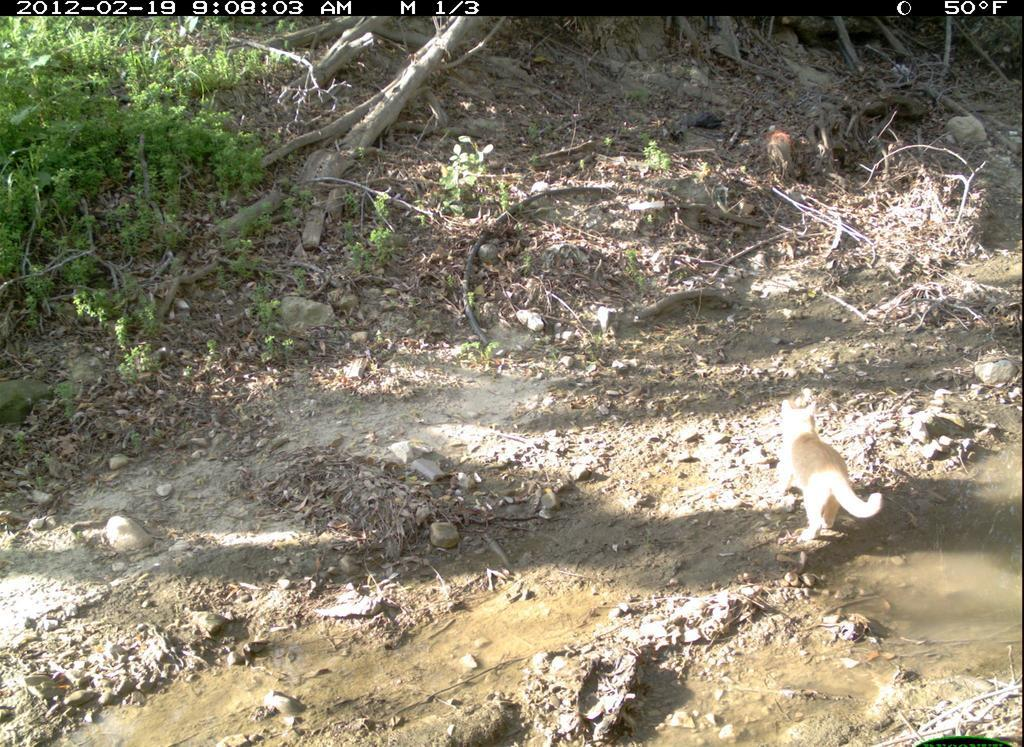cat: (767, 388, 900, 555)
